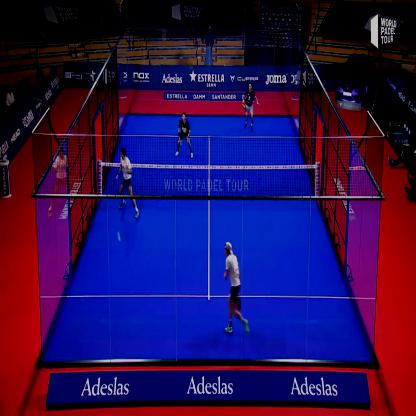ball: (116, 230, 124, 246)
